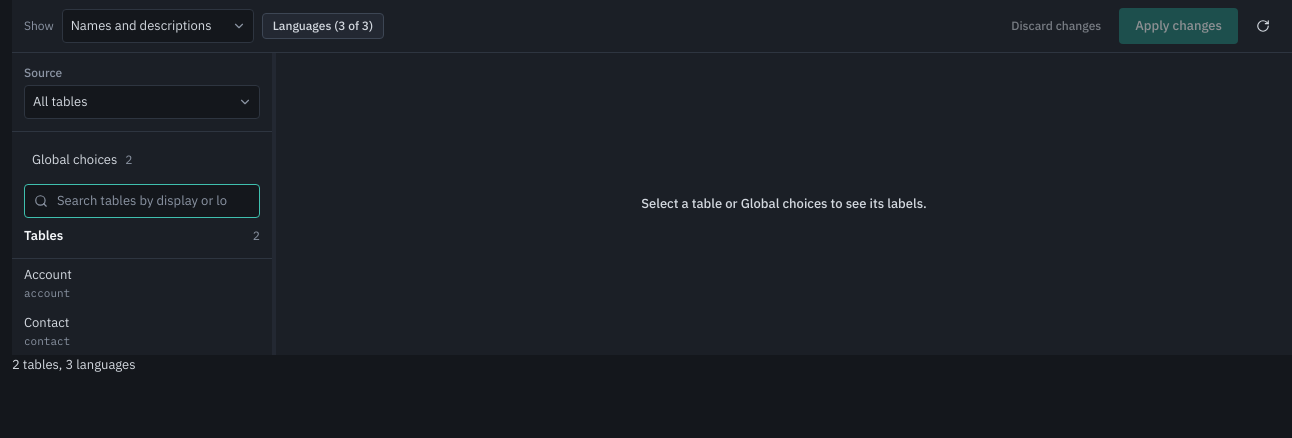
Translator › lists tables and global choices, then shows one column per language with the base first
The image size is (1292, 438).
Expected: the button "Global choices 2" is shown, [24,144,260,176]
Expected: the element named "tool statuses" reads "2 tables, 3 languages", [12,356,136,373]
Step 1. Click the button "Account account" → (48, 274), box [12,259,272,307]
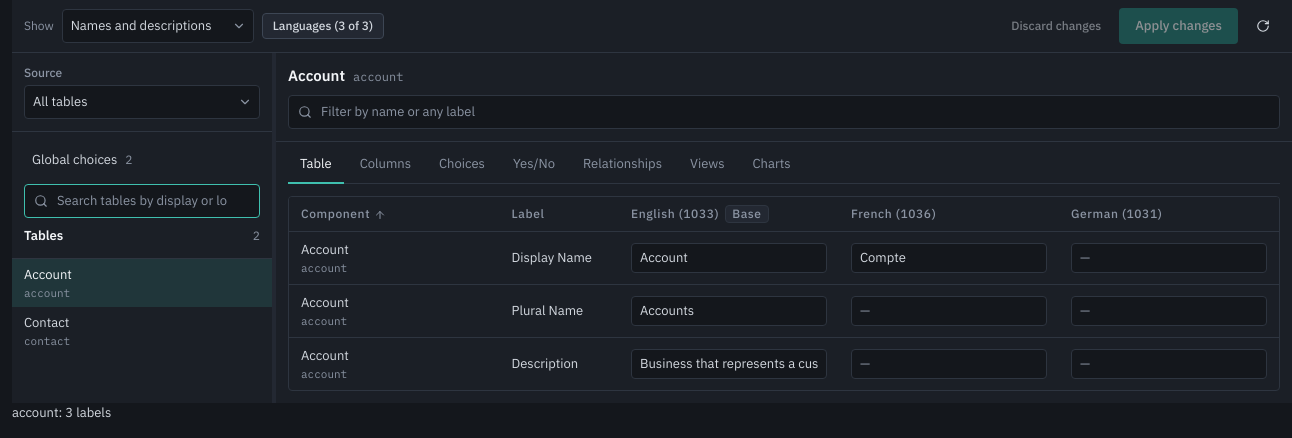
Expected: the column headings read "Component", "Label", "English (1033)Base", "French (1036)", "German (1031)", in this order, [289,197,500,232]; [500,197,619,232]; [619,197,839,232]; [839,197,1059,232]; [1059,197,1279,232]
Expected: the field named "Account Display Name French (1036)" holds "Compte", [851,243,1047,273]
Expected: the element named "tool statuses" reads "account: 3 labels", [12,404,111,421]
